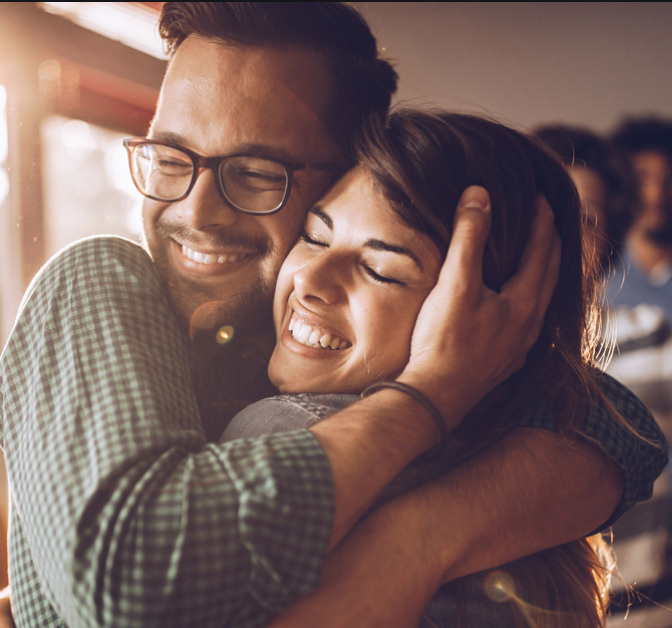Bad: (2, 2, 670, 628)
